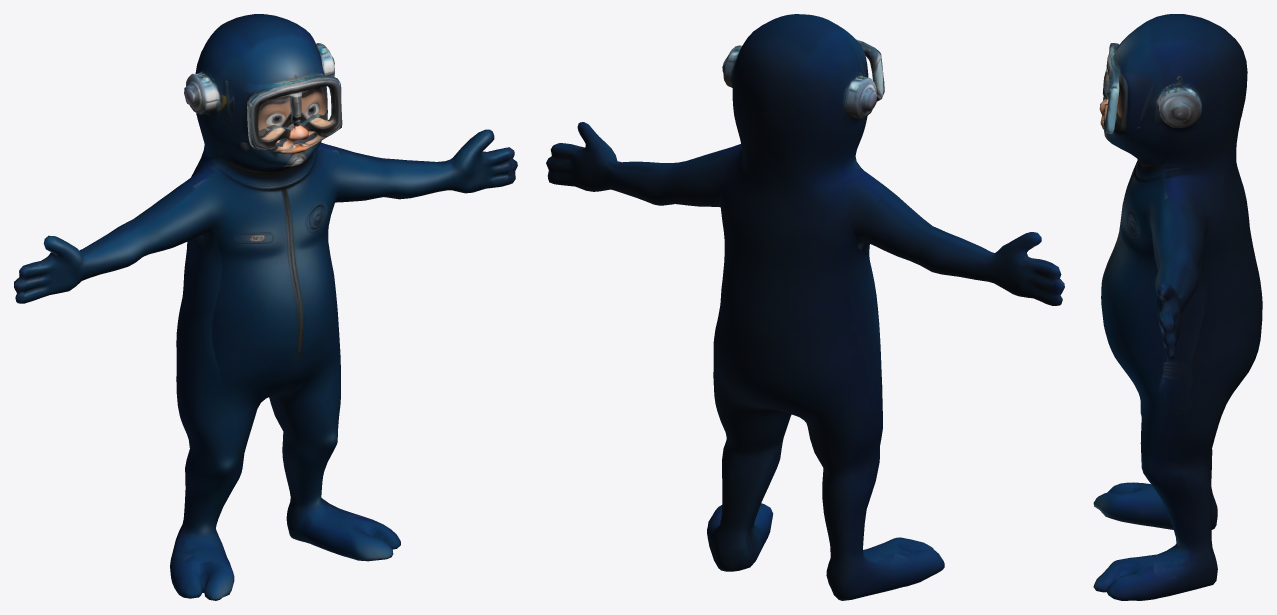
Rendered from scuba_driver_cartoon_0903042619_texture.fbx.
3 views of the same model, side by side, from view 1: azimuth 30°, elevation 25°; view 2: azimuth 150°, elevation 25°; view 3: azimuth 270°, elevation 25° (orthographic). The views are drawn at different scales.
Parts seen in each view (by area): view 1: Mesh1.0; view 2: Mesh1.0; view 3: Mesh1.0.
Part boxes in pixels (bbox=[...]): Mesh1.0: bbox=[14, 14, 517, 600]; Mesh1.0: bbox=[546, 14, 1064, 600]; Mesh1.0: bbox=[1093, 14, 1262, 600].
Size of the model in its own units: 196 by 200 by 57.12.
Materials: 1 (1 with a texture image).
